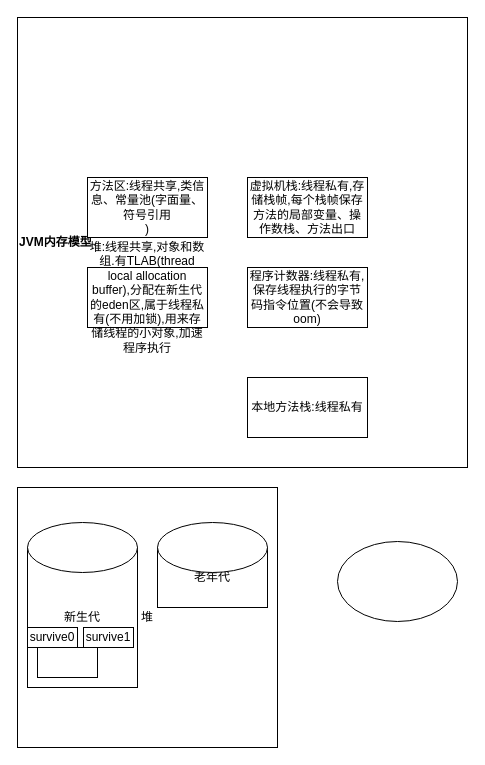
This 485x765 diagram has some shape labels left out. The box of each missing label's shape, as (x1, y1, x2, y2) in pixels:
eden区: (36, 646, 98, 678)
full GC: (156, 522, 268, 572)
minor GC:复制-清空-移动互换: (26, 522, 138, 572)
守护线程:虚拟机中优先级低,用来服务用户线程.如垃圾回收线程.当jvm只存在守护线程时,就会退出: (336, 540, 458, 622)
